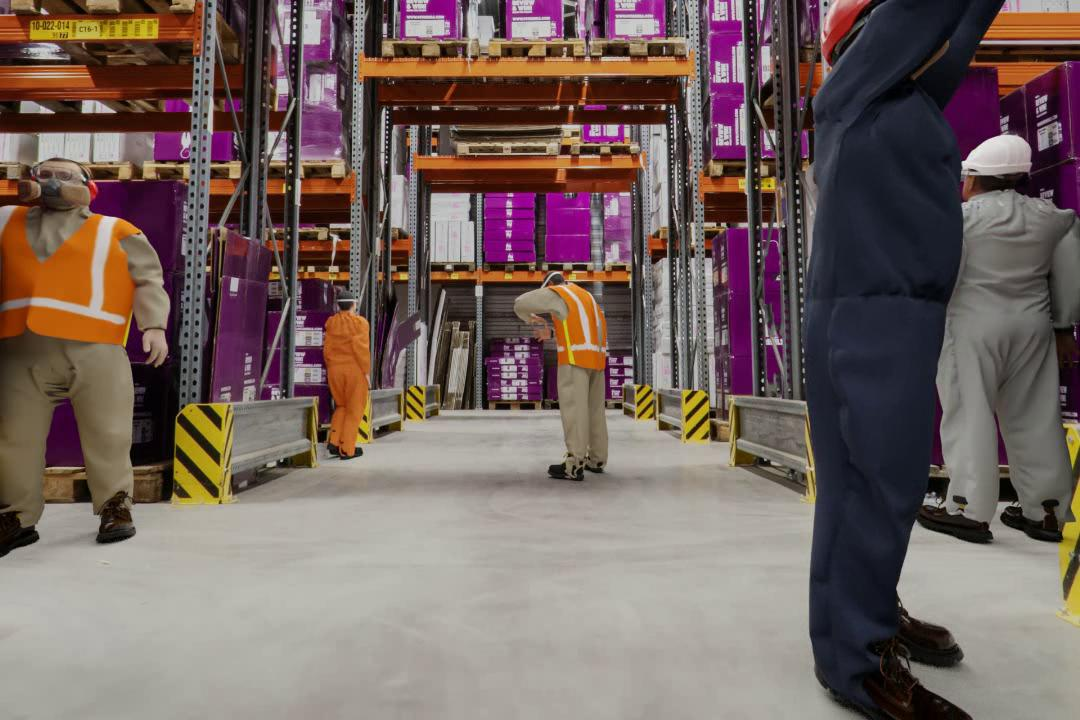Helmet: (961, 131, 1034, 175)
Jacket: (8, 199, 121, 344), (550, 283, 608, 361)
Shoes: (810, 672, 968, 720), (899, 590, 967, 666), (916, 497, 993, 543), (999, 498, 1064, 544), (91, 491, 135, 547), (0, 508, 39, 565), (548, 461, 584, 482), (341, 447, 363, 459), (585, 459, 604, 472), (325, 441, 340, 456)
